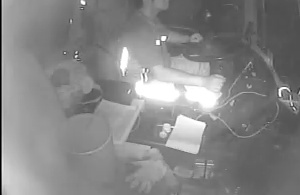paper: (164, 113, 208, 156)
